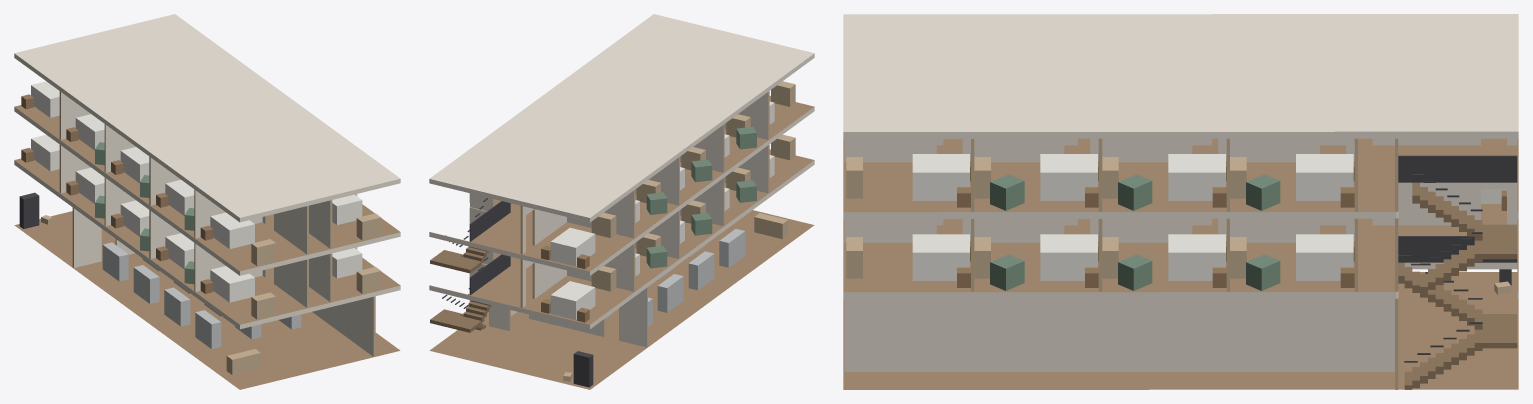
The model's file is interior.glb.
The picture shows the model from 3 angles, left to right: view 1: azimuth 30°, elevation 25°; view 2: azimuth 150°, elevation 25°; view 3: azimuth 270°, elevation 25°; orthographic projection. The views are drawn at different scales.
Parts seen in each view (by area): view 1: slabs, partitions, coarse-s2, coarse-s1, coarse-s0; view 2: slabs, partitions, coarse-s2, coarse-s1, coarse-s0, stair; view 3: slabs, partitions, coarse-s1, coarse-s2, stair.
Part boxes in pixels (x1,y1,x2,y2): slabs: [14, 14, 400, 389]; partitions: [59, 91, 375, 356]; coarse-s2: [21, 81, 381, 266]; coarse-s1: [21, 134, 381, 319]; coarse-s0: [19, 192, 301, 374]; slabs: [429, 14, 814, 389]; partitions: [469, 91, 769, 347]; coarse-s2: [541, 81, 795, 268]; coarse-s1: [541, 134, 795, 322]; coarse-s0: [563, 213, 788, 387]; stair: [430, 198, 510, 332]; slabs: [843, 14, 1518, 389]; partitions: [844, 138, 1517, 389]; coarse-s1: [846, 189, 1506, 290]; coarse-s2: [846, 154, 1354, 210]; stair: [1398, 155, 1517, 389].
Bounding box in the file's own units: 9.67 × 9.87 × 23.37.
